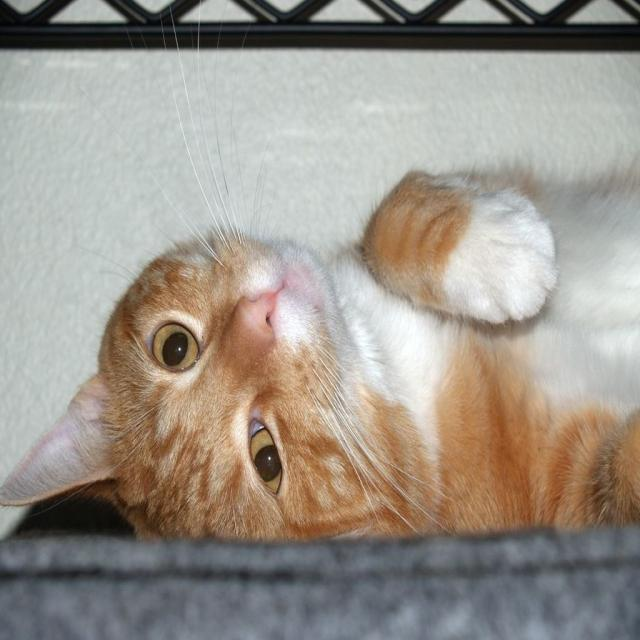Cat: (0, 0, 639, 544)
